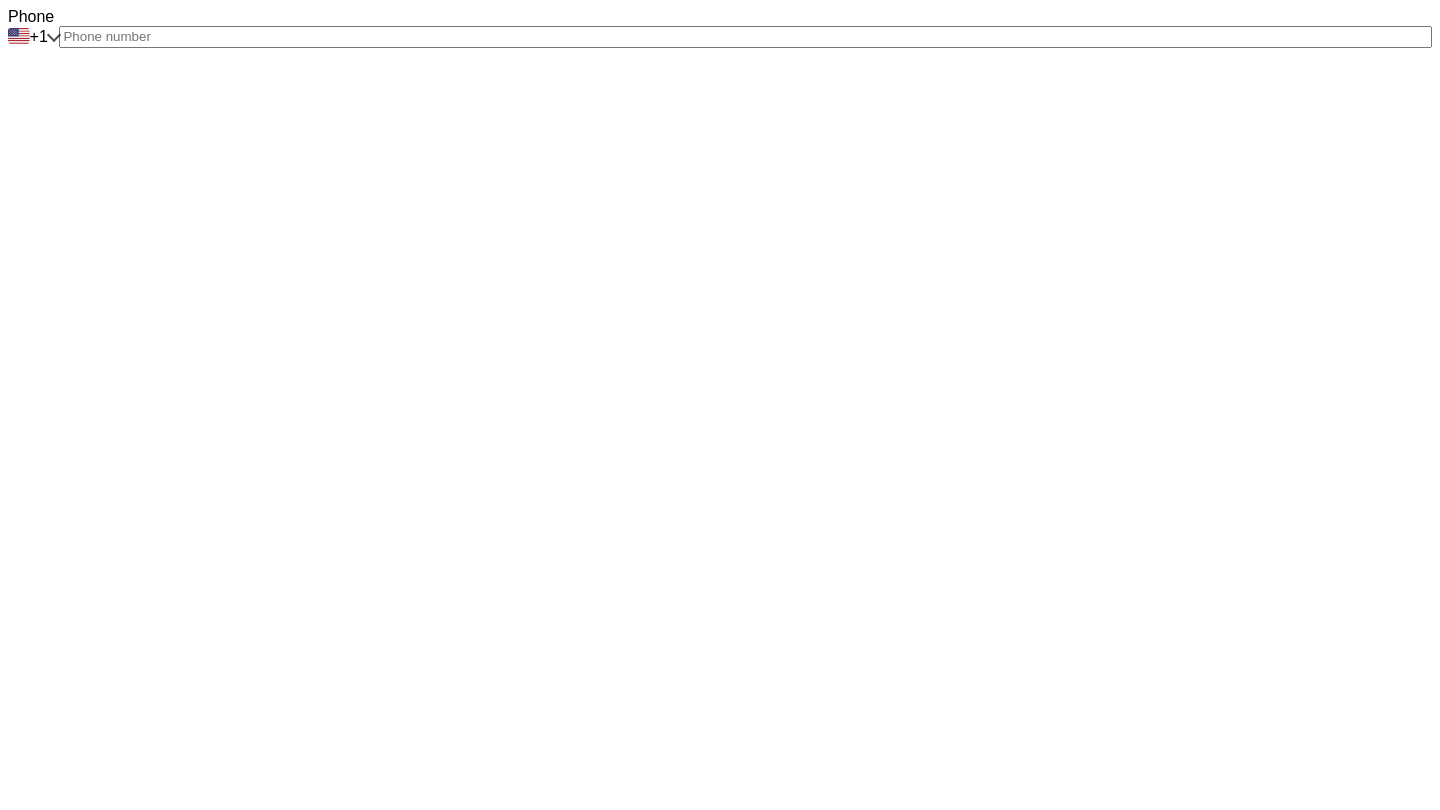
Test: PhoneInput › works for countries with no trunk zero and for shared calling codes
Expected: the button named "country code" shows "+1", [8,26,59,48]
Type "4155552671" into the field labelled "Phone". click: {"x": 746, "y": 37}
box: [59,26,1432,48]
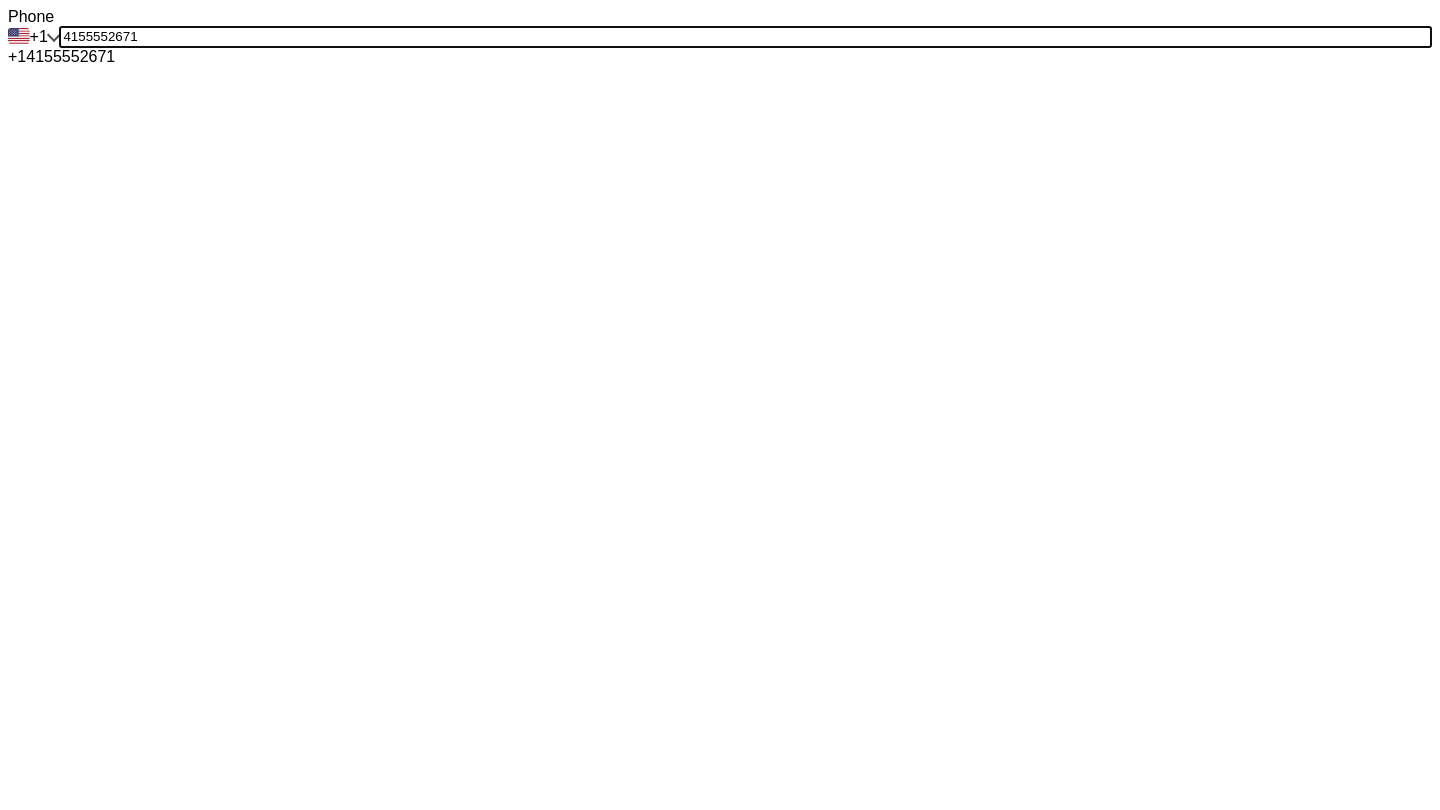
Click the button named "country code". click: {"x": 34, "y": 37}
box: [8,26,59,48]
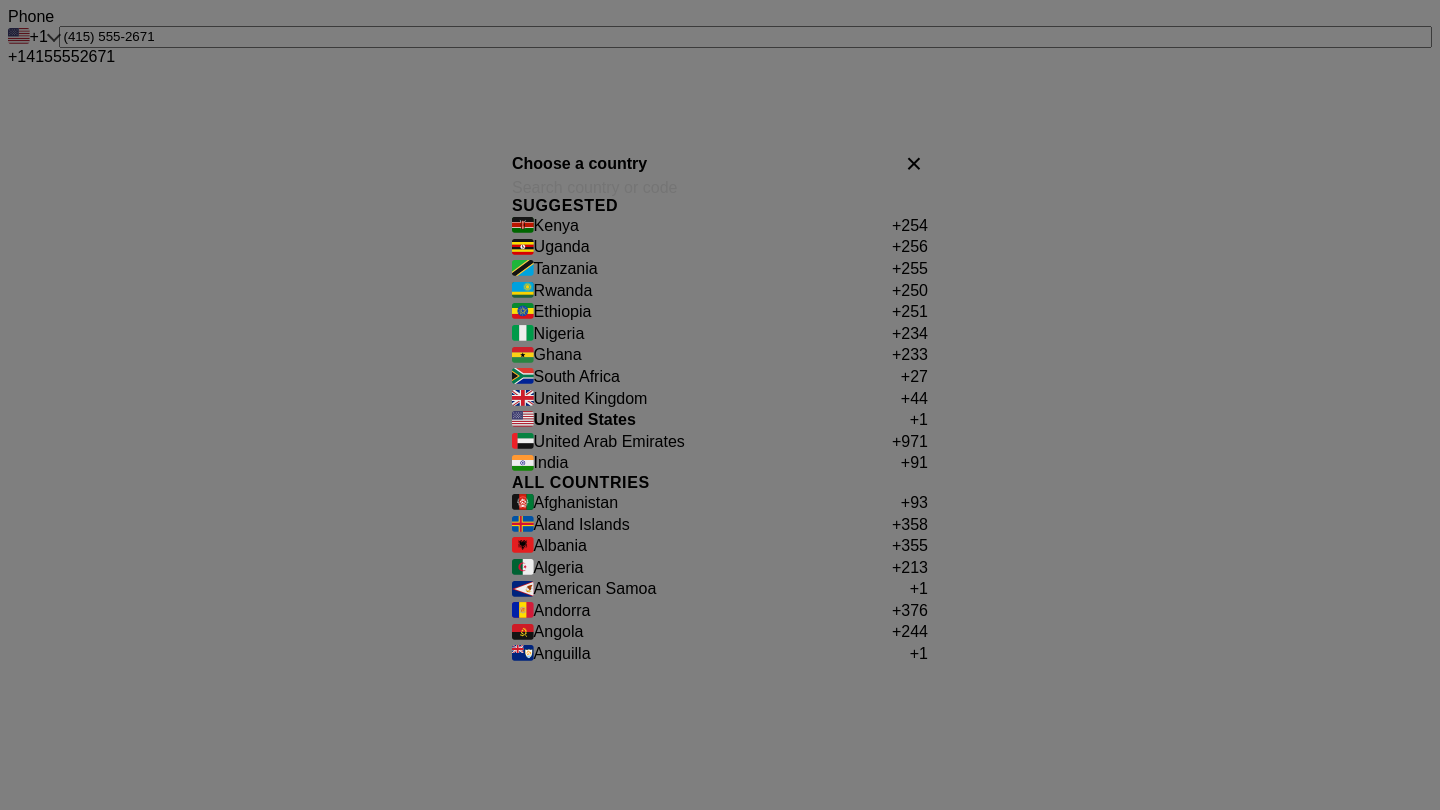
Type "canada" into the dropdown. click: {"x": 720, "y": 188}
box: [512,179,928,197]
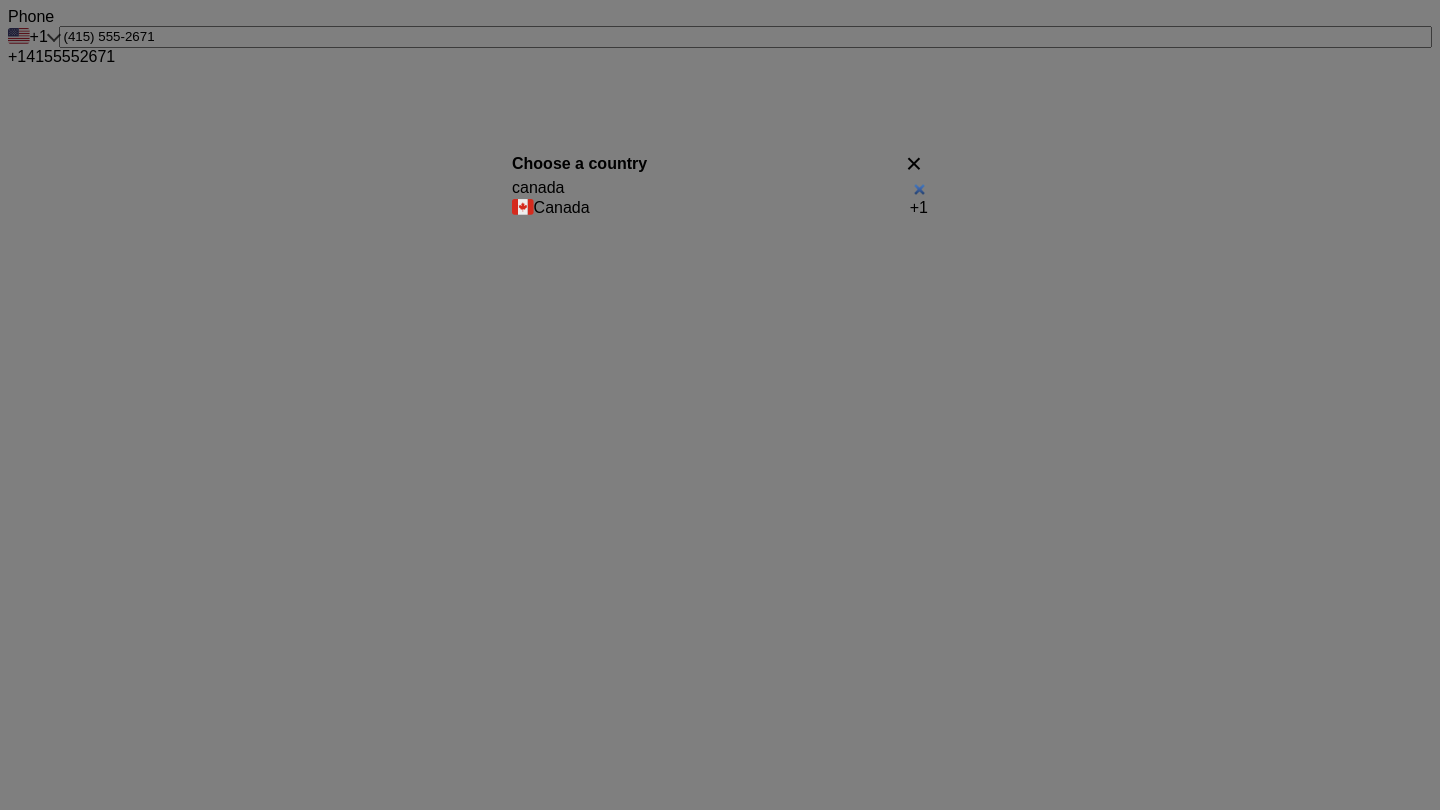
Click the option "🇨🇦 Canada +1". click: {"x": 562, "y": 207}
box: [512,197,928,219]
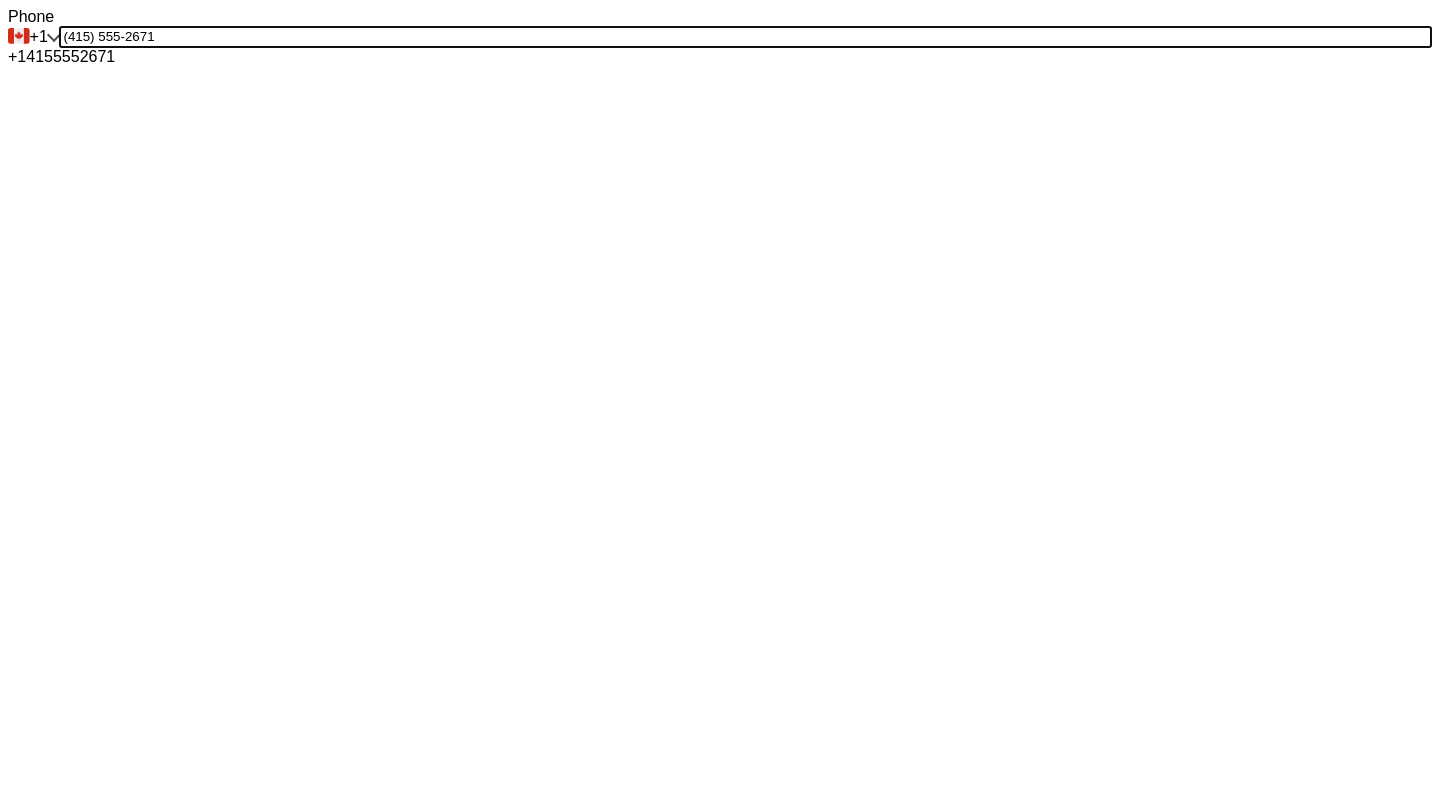
Result: the button named "country code" shows "🇨🇦" at [8,26,59,48]
